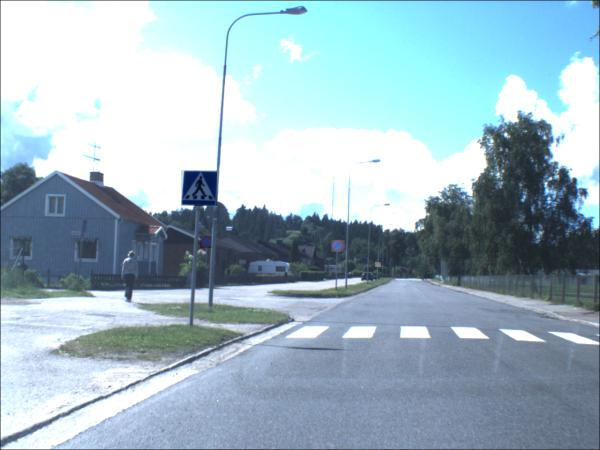NO_PARKING: (331, 241, 346, 254), (200, 237, 213, 250)
PEDESTRIAN_CROSSING: (181, 171, 218, 208), (386, 266, 391, 270)
WARNING: (375, 263, 382, 269)
